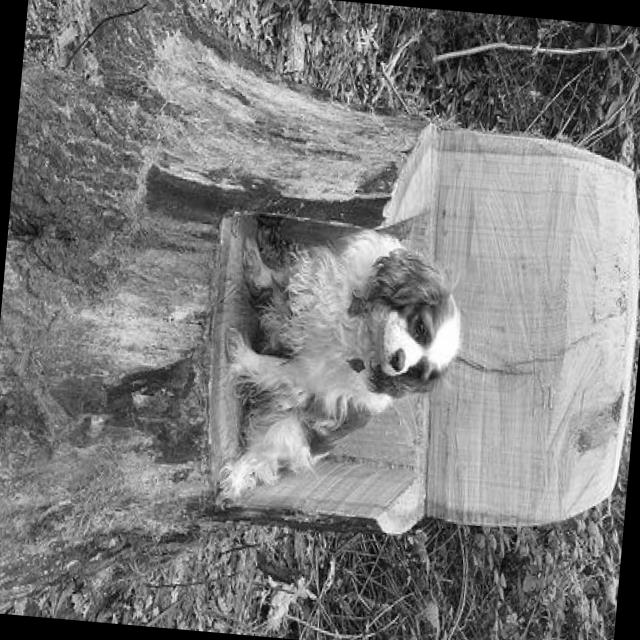sitting: (206, 220, 474, 526)
